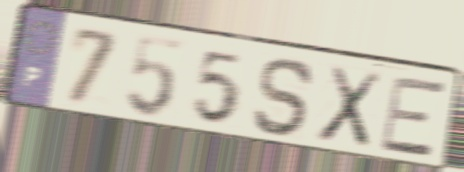5: (124, 31, 191, 121), (190, 47, 250, 126)
7: (66, 24, 124, 108)
E: (377, 75, 448, 160)
S: (250, 55, 318, 141)
X: (313, 62, 386, 151)
